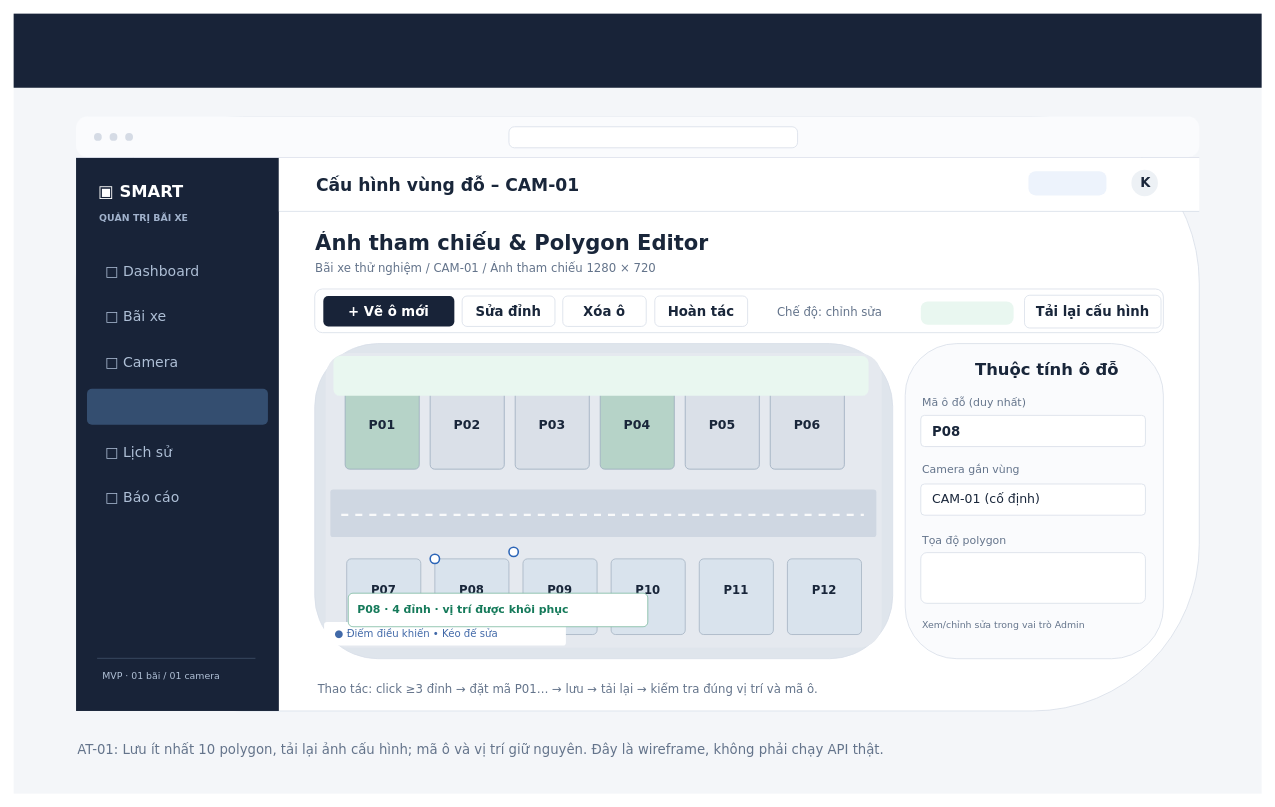
Image size: 1275x807. Some labels were removed from this diagram. The centre of each missing label's shape, as x and y in pixels:
4 đỉnh · lưu chuẩn hóa 0–1 Theo kích thước ảnh tham chiếu: (x=1032, y=577)
ADMIN: (x=1067, y=183)
ai-smart-parking.local / polygon-saved: (x=653, y=137)
ĐÃ LƯU: (x=966, y=312)
□ Vẽ ô đỗ: (x=177, y=406)
✓ Đã lưu cấu hình CAM-01 · 12 vùng đỗ: (x=600, y=375)
